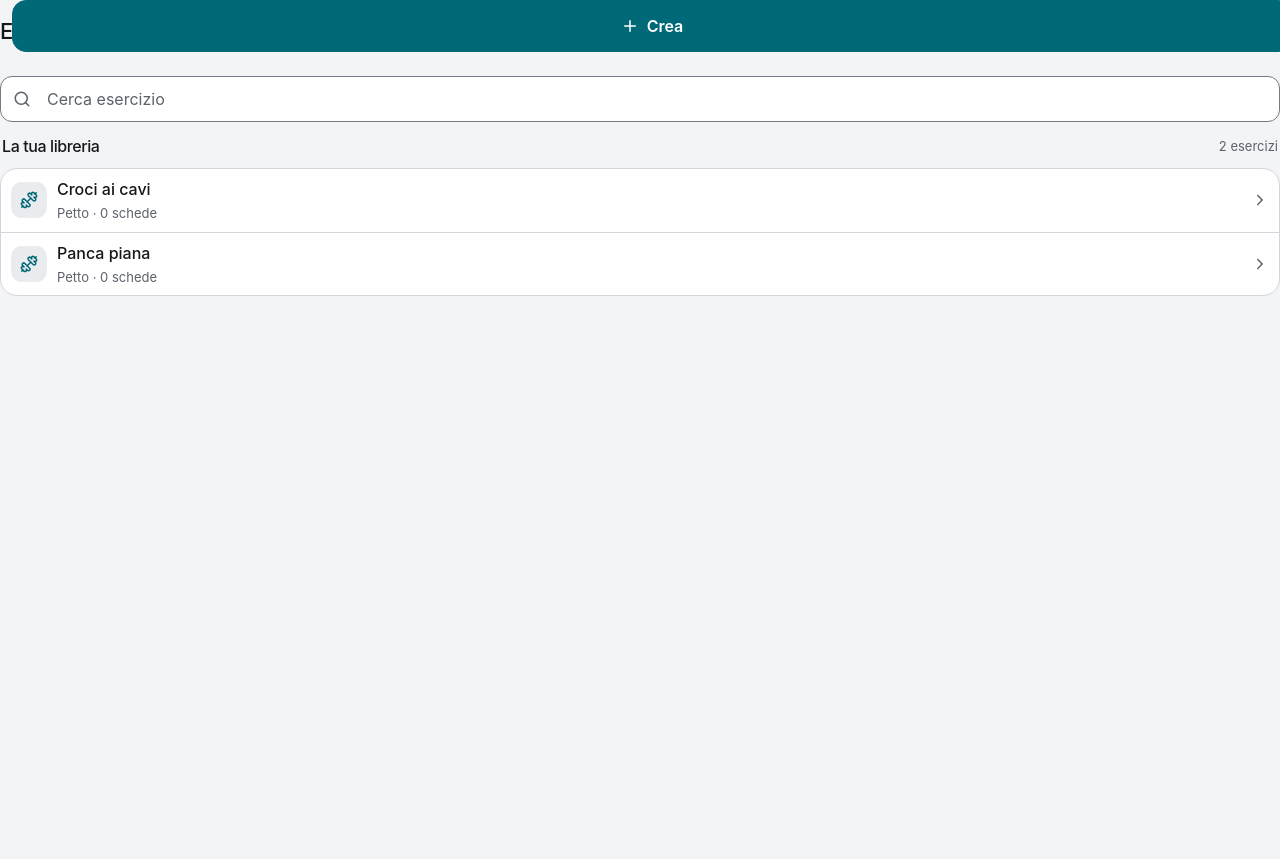
it: Empirical Adversarial Stress Suite: ContextMenu & Integrations › 2. Event Bubbling Isolation Across Integrated Components › TrainingExercises Integration › moves exercise actions to the dedicated detail surface and keeps catalog items non-deletable
The width and height of the screenshot is (1280, 859).
Click the button with aria-label "Apri dettaglio di Croci ai cavi".
click(29, 200)  # box [1,169,1279,232]
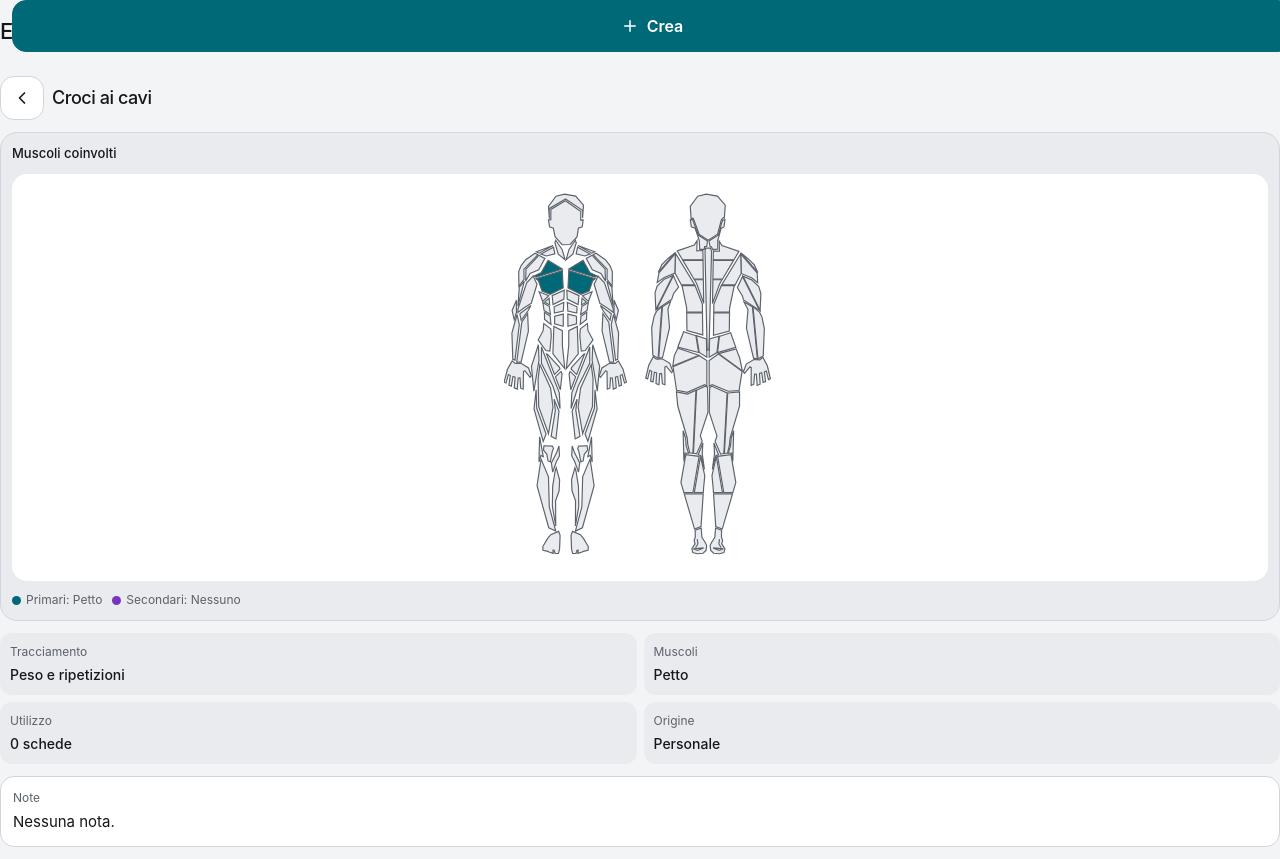
Click the button named "Torna all’elenco".
click(22, 98)  # box [0,76,44,120]
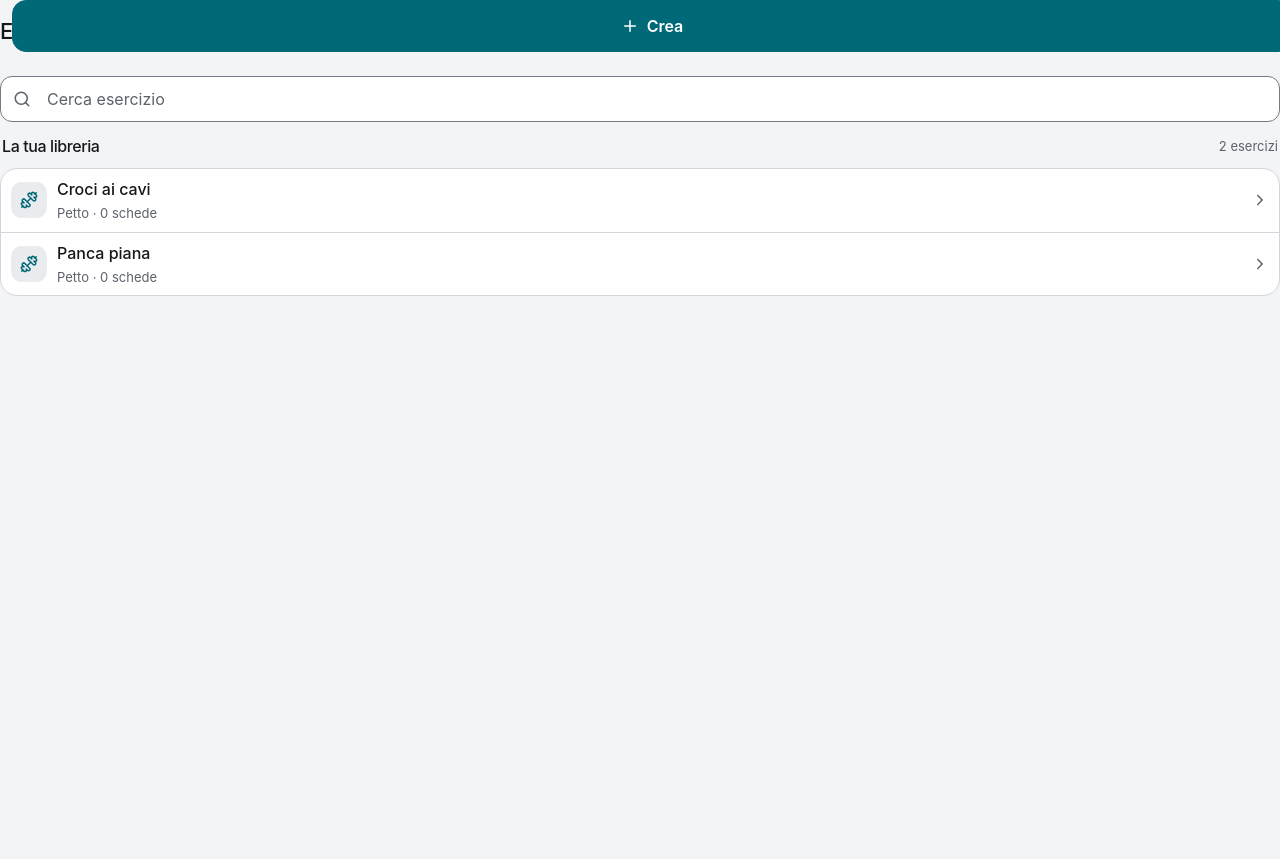
Click the button with aria-label "Apri dettaglio di Panca piana".
click(29, 264)  # box [1,232,1279,295]
(page scrolled)
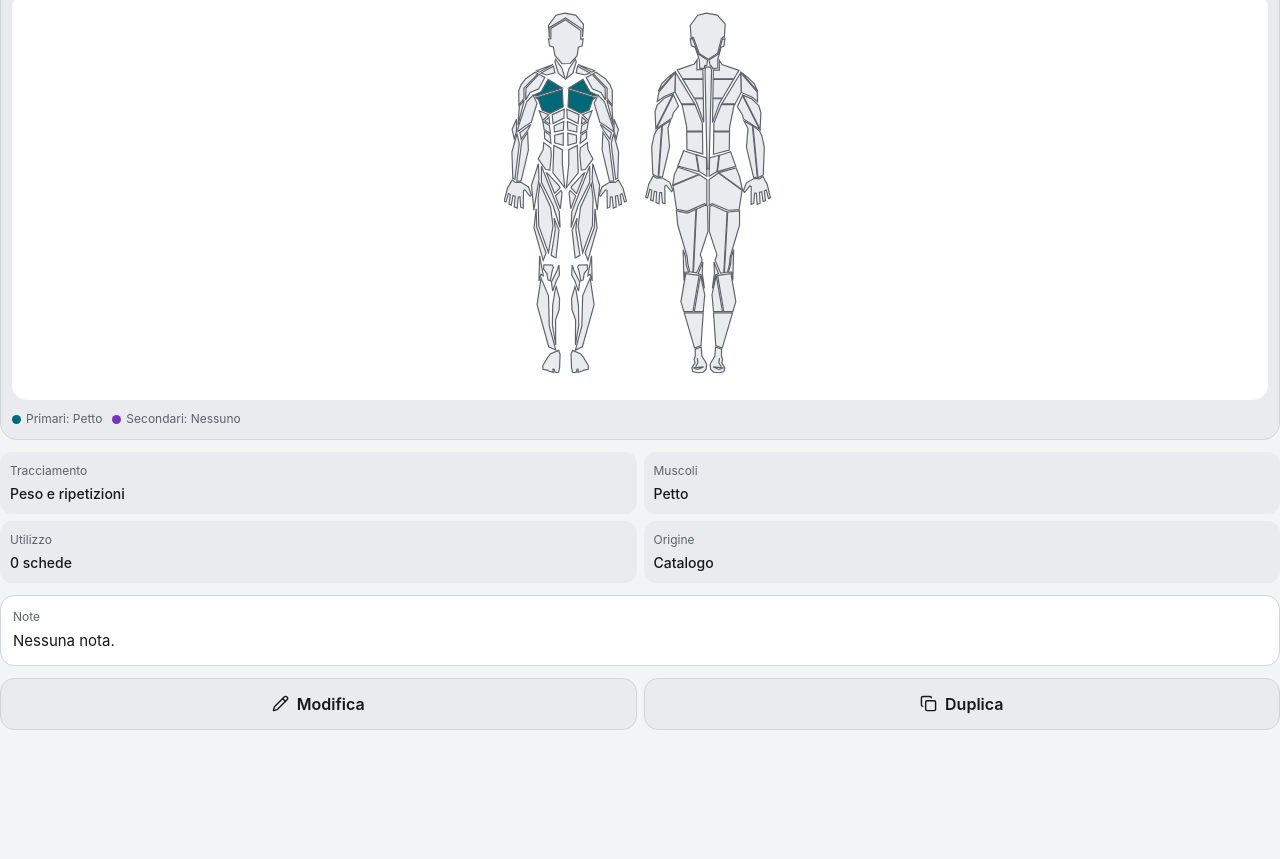
Expected: the button "Elimina" is not shown
Result: the button "Modifica" is shown at [0,678,636,730]
Result: the button "Duplica" is shown at [644,678,1279,730]
